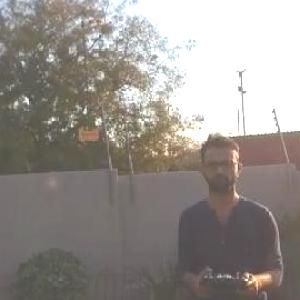follow: (172, 124, 289, 299)
